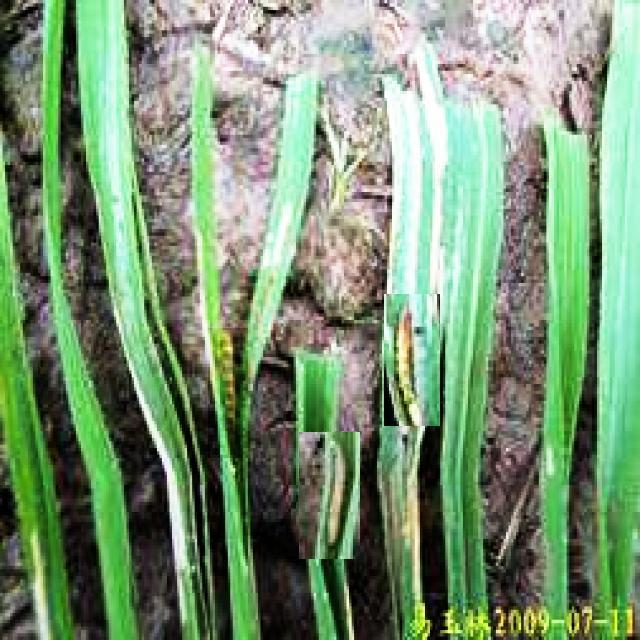leaf-folder: (299, 432, 360, 559), (384, 295, 440, 427), (208, 328, 248, 458)
